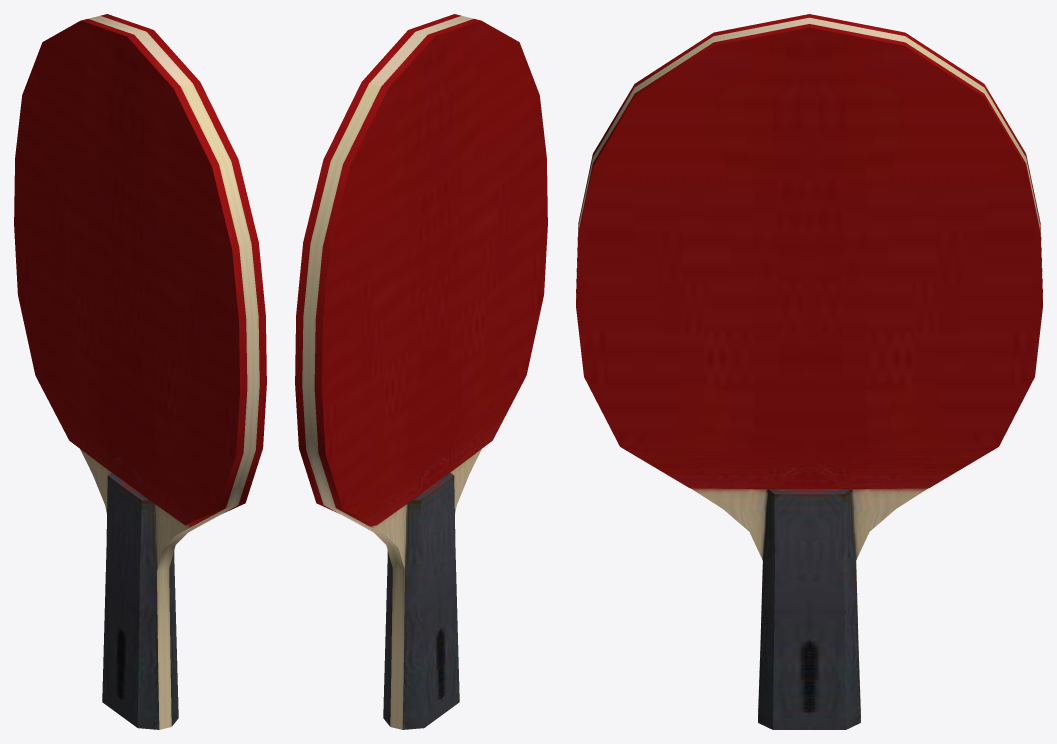
File: racket.8291d221.gltf
3 views of the same model, side by side, from view 1: azimuth 30°, elevation 25°; view 2: azimuth 150°, elevation 25°; view 3: azimuth 270°, elevation 25° (orthographic). The views are drawn at different scales.
Parts seen in each view (by area): view 1: 立方体; view 2: 立方体; view 3: 立方体.
Boxes of the visible parts, x1,y1,x2,y2 form: 立方体: [14, 14, 266, 729]; 立方体: [295, 14, 547, 729]; 立方体: [576, 14, 1042, 729].
Size of the model in its own units: 1.57 by 24.7 by 14.96.
1 material, 1 textured.
